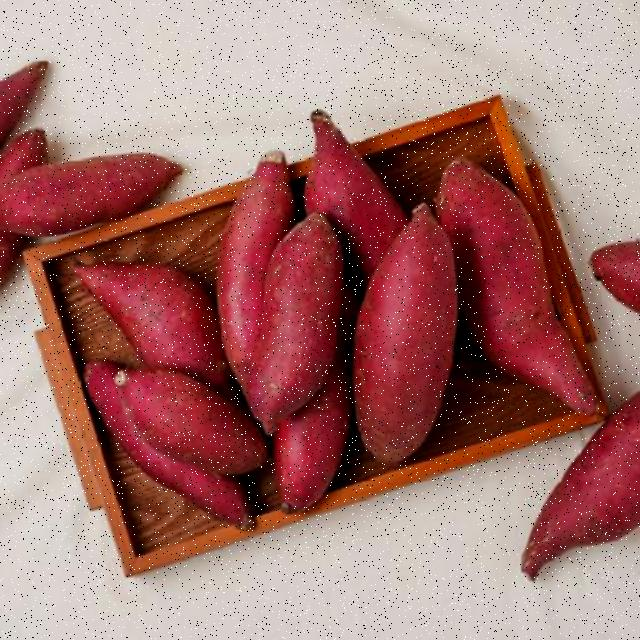Sweet Potato: (435, 140, 617, 438), (363, 192, 463, 480), (104, 346, 274, 502), (247, 200, 345, 428)
